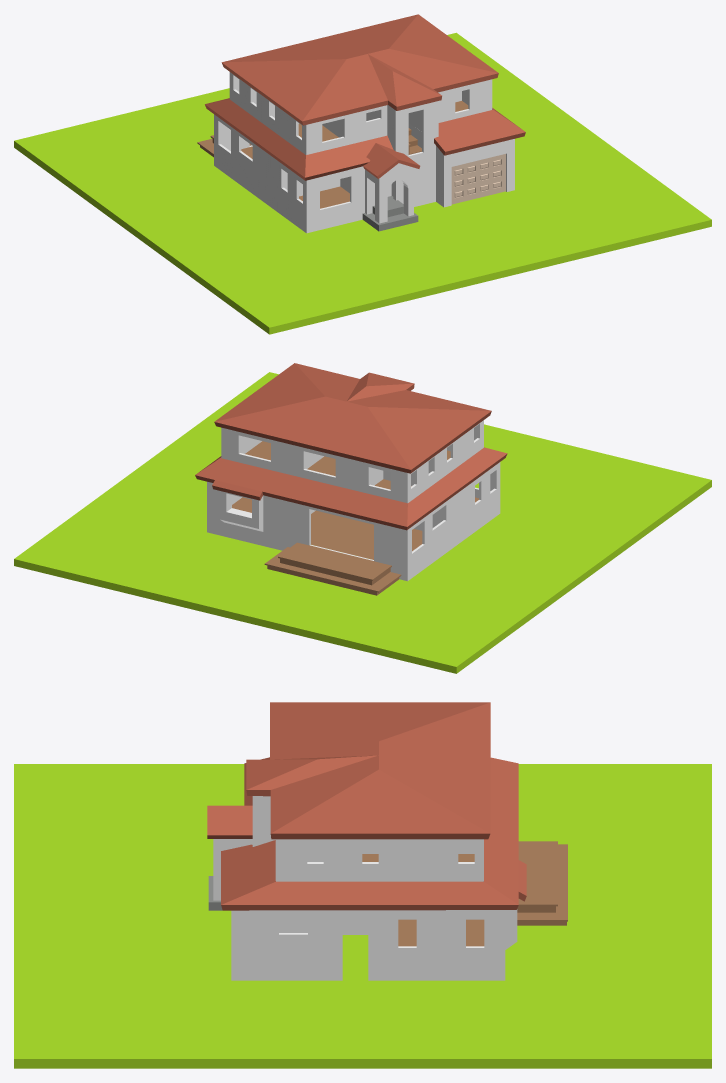
File: HouseTestFile.glb
The picture shows the model from 3 angles, top to bottom: view 1: azimuth 30°, elevation 25°; view 2: azimuth 150°, elevation 25°; view 3: azimuth 270°, elevation 25°; orthographic projection. The views are drawn at different scales.
Parts seen in each view (by area): view 1: Ground, Walls, Upper Roof Base, Lower Roof Base, Garage Door, Porch Structure, Porch Roof, Front Steps, Floor; view 2: Ground, Walls, Upper Roof Base, Lower Roof Base, Floor, Backyard Deck.002, Window Extension, Backyard Deck, Backyard Deck.001, Floor 2; view 3: Ground, Upper Roof Base, Walls, Lower Roof Base, Backyard Deck.002, Porch Roof, Backyard Deck.001, Floor, Porch Structure.
Part boxes in pixels (left/top/right/bottom): Ground: left=14, top=32, right=711, bottom=334; Walls: left=214, top=72, right=514, bottom=233; Upper Roof Base: left=221, top=14, right=498, bottom=125; Lower Roof Base: left=205, top=98, right=525, bottom=180; Garage Door: left=451, top=154, right=505, bottom=204; Porch Structure: left=365, top=163, right=413, bottom=223; Porch Roof: left=363, top=143, right=420, bottom=178; Front Steps: left=362, top=196, right=418, bottom=231; Floor: left=241, top=146, right=349, bottom=208; Ground: left=14, top=372, right=711, bottom=673; Walls: left=207, top=420, right=500, bottom=581; Upper Roof Base: left=214, top=363, right=491, bottom=473; Lower Roof Base: left=195, top=447, right=507, bottom=530; Floor: left=232, top=497, right=478, bottom=559; Backyard Deck.002: left=278, top=542, right=391, bottom=580; Window Extension: left=219, top=491, right=263, bottom=531; Backyard Deck: left=267, top=558, right=399, bottom=595; Backyard Deck.001: left=264, top=547, right=401, bottom=592; Floor 2: left=245, top=441, right=450, bottom=489; Ground: left=14, top=764, right=711, bottom=1068; Upper Roof Base: left=246, top=702, right=490, bottom=839; Walls: left=231, top=796, right=505, bottom=980; Lower Roof Base: left=221, top=757, right=526, bottom=910; Backyard Deck.002: left=518, top=841, right=557, bottom=906; Porch Roof: left=207, top=805, right=252, bottom=838; Backyard Deck.001: left=517, top=844, right=567, bottom=921; Floor: left=398, top=919, right=484, bottom=946; Porch Structure: left=213, top=839, right=252, bottom=900.
Bounding box in the file's own units: 22.48 × 6.14 × 22.48.
